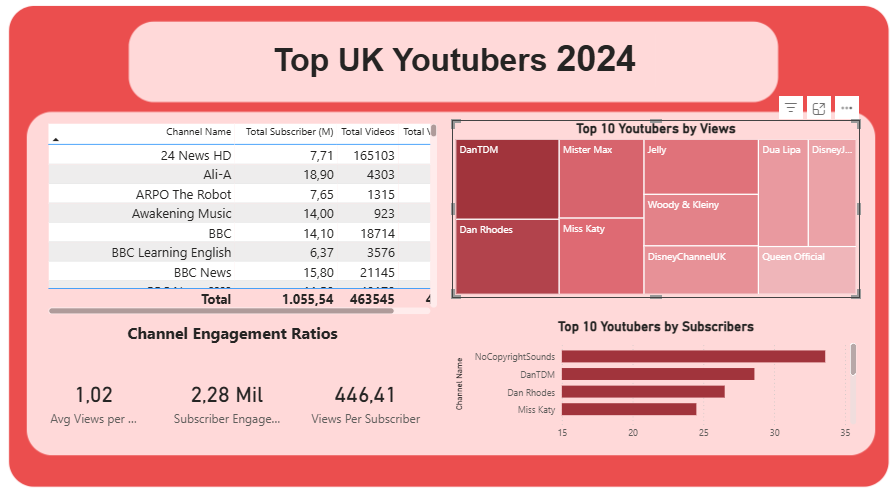

The dashboard page shown, as its layout file describes it:
{"tool":"powerbi","page":{"name":"Página 1","canvas":[1280,720],"ordinal":0},"visuals":[{"type":"textbox","box":[374.7,68.3,539.3,70.9],"z":0},{"type":"tableEx","fields":{"Values":["view_uk_youtubers_2024.Nome_Canal","view_uk_youtubers_2024.Total Subscriber (M)","view_uk_youtubers_2024.Total Videos","view_uk_youtubers_2024.Total Views (B)"]},"box":[95,183.3,531.3,265],"z":1},{"type":"treemap","title":"Top 10 Youtubers by Views","fields":{"Group":["view_uk_youtubers_2024.Nome_Canal"],"Values":["view_uk_youtubers_2024.Total Views (B)"]},"box":[641,183.3,546,238.2],"z":2},{"type":"card","fields":{"Values":["view_uk_youtubers_2024.Avg Views per Video (M)"]},"box":[95,497.8,132.5,121.8],"z":3},{"type":"card","fields":{"Values":["view_uk_youtubers_2024.Subscriber Engagement Rate"]},"box":[258.3,497.8,163.3,121.8],"z":4},{"type":"card","fields":{"Values":["view_uk_youtubers_2024.Views Per Subscriber"]},"box":[440.3,497.8,170,121.8],"z":5},{"type":"clusteredBarChart","title":"Top 10 Youtubers by Subscribers","fields":{"Category":["view_uk_youtubers_2024.Nome_Canal"],"Y":["view_uk_youtubers_2024.Total Subscriber (M)"]},"box":[641,448.3,546,171.3],"z":6},{"type":"textbox","box":[155.2,448.3,384.1,49.5],"z":7}]}

Visuals, with their boxes in screenshot pixels (x1, y1, x2, y2), scaled from the page's 1280x720 canvas onto the 896x492 screenshot:
textbox: box(262, 47, 640, 95)
tableEx - view_uk_youtubers_2024.Nome_Canal x view_uk_youtubers_2024.Total Subscriber (M): box(66, 125, 438, 306)
"Top 10 Youtubers by Views" treemap: box(449, 125, 831, 288)
card - view_uk_youtubers_2024.Avg Views per Video (M): box(66, 340, 159, 423)
card - view_uk_youtubers_2024.Subscriber Engagement Rate: box(181, 340, 295, 423)
card - view_uk_youtubers_2024.Views Per Subscriber: box(308, 340, 427, 423)
"Top 10 Youtubers by Subscribers" clusteredBarChart: box(449, 306, 831, 423)
textbox: box(109, 306, 378, 340)
